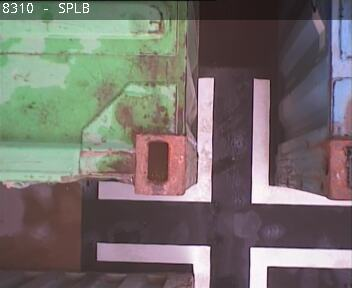groundmarker_1: (96, 79, 349, 206)
